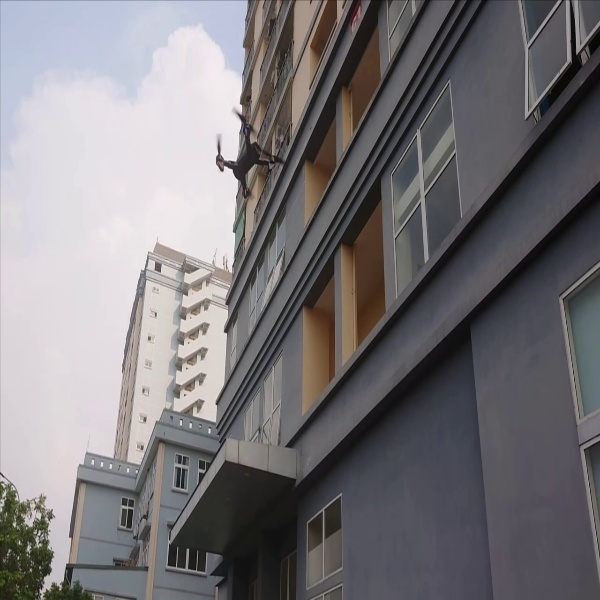drone: (204, 103, 292, 205)
